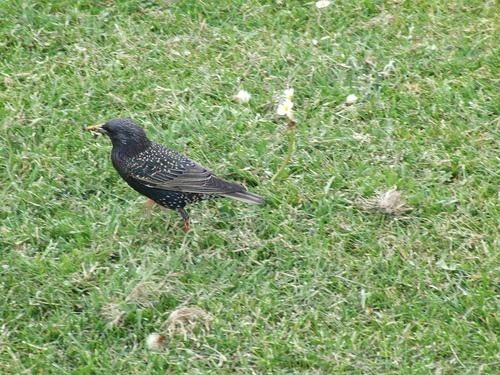bird: (82, 113, 272, 250)
